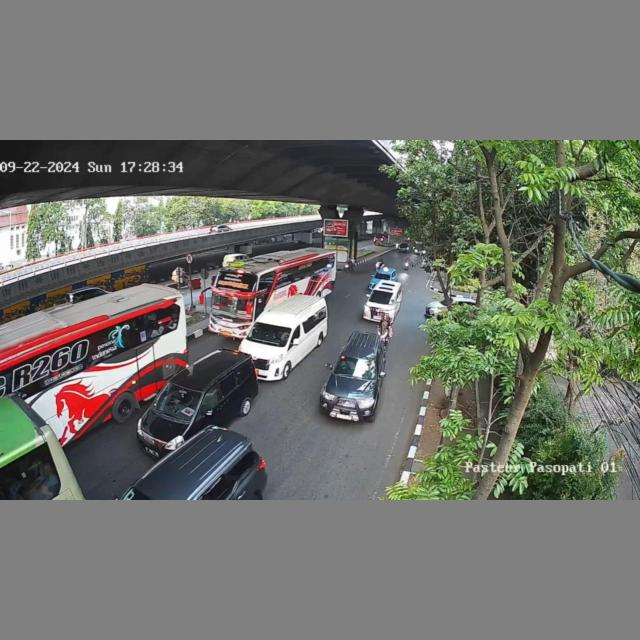windshield: (153, 384, 202, 416), (335, 354, 377, 380), (246, 323, 292, 346), (370, 288, 396, 305)
